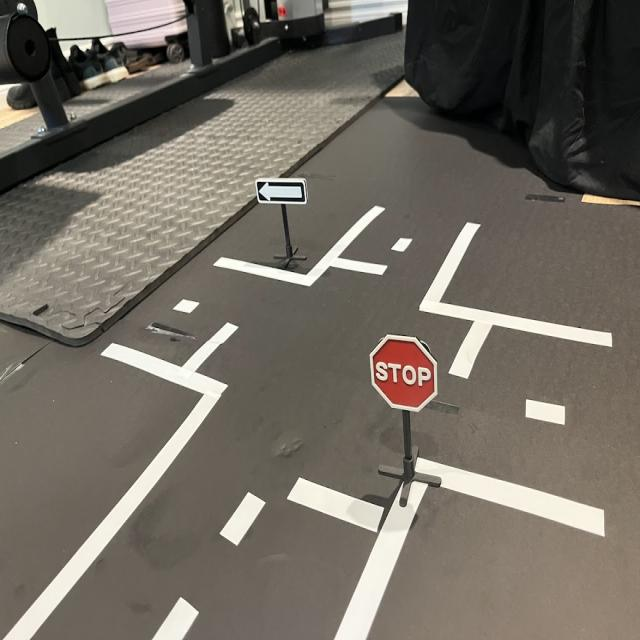sign_oneway_left: (255, 177, 310, 209)
sign_stop: (371, 336, 442, 417)
